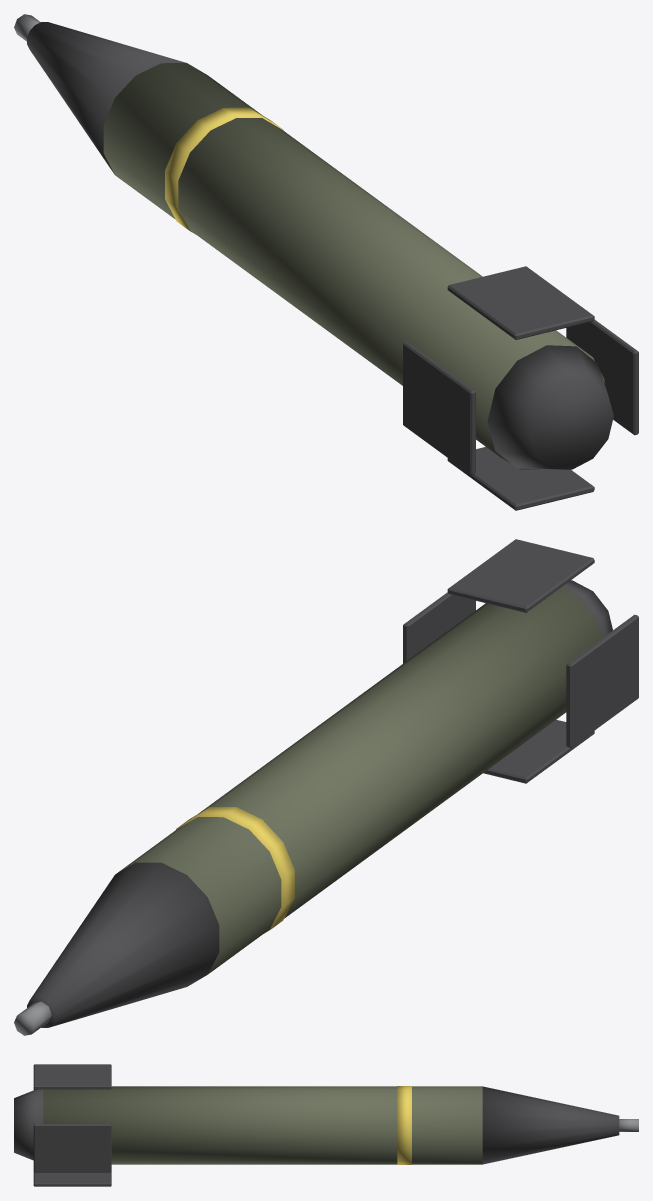
File: rocket.glb
3 views of the same model, one above another, from view 1: azimuth 30°, elevation 25°; view 2: azimuth 150°, elevation 25°; view 3: azimuth 270°, elevation 25° (orthographic). The views are drawn at different scales.
Parts seen in each view (by area): view 1: Rocket; view 2: Rocket; view 3: Rocket.
Part boxes in pixels (left/top/right/bottom): Rocket: left=14, top=14, right=638, bottom=510; Rocket: left=14, top=539, right=638, bottom=1035; Rocket: left=14, top=1064, right=638, bottom=1186.
Size of the model in its own units: 0.114 by 0.114 by 0.64.
